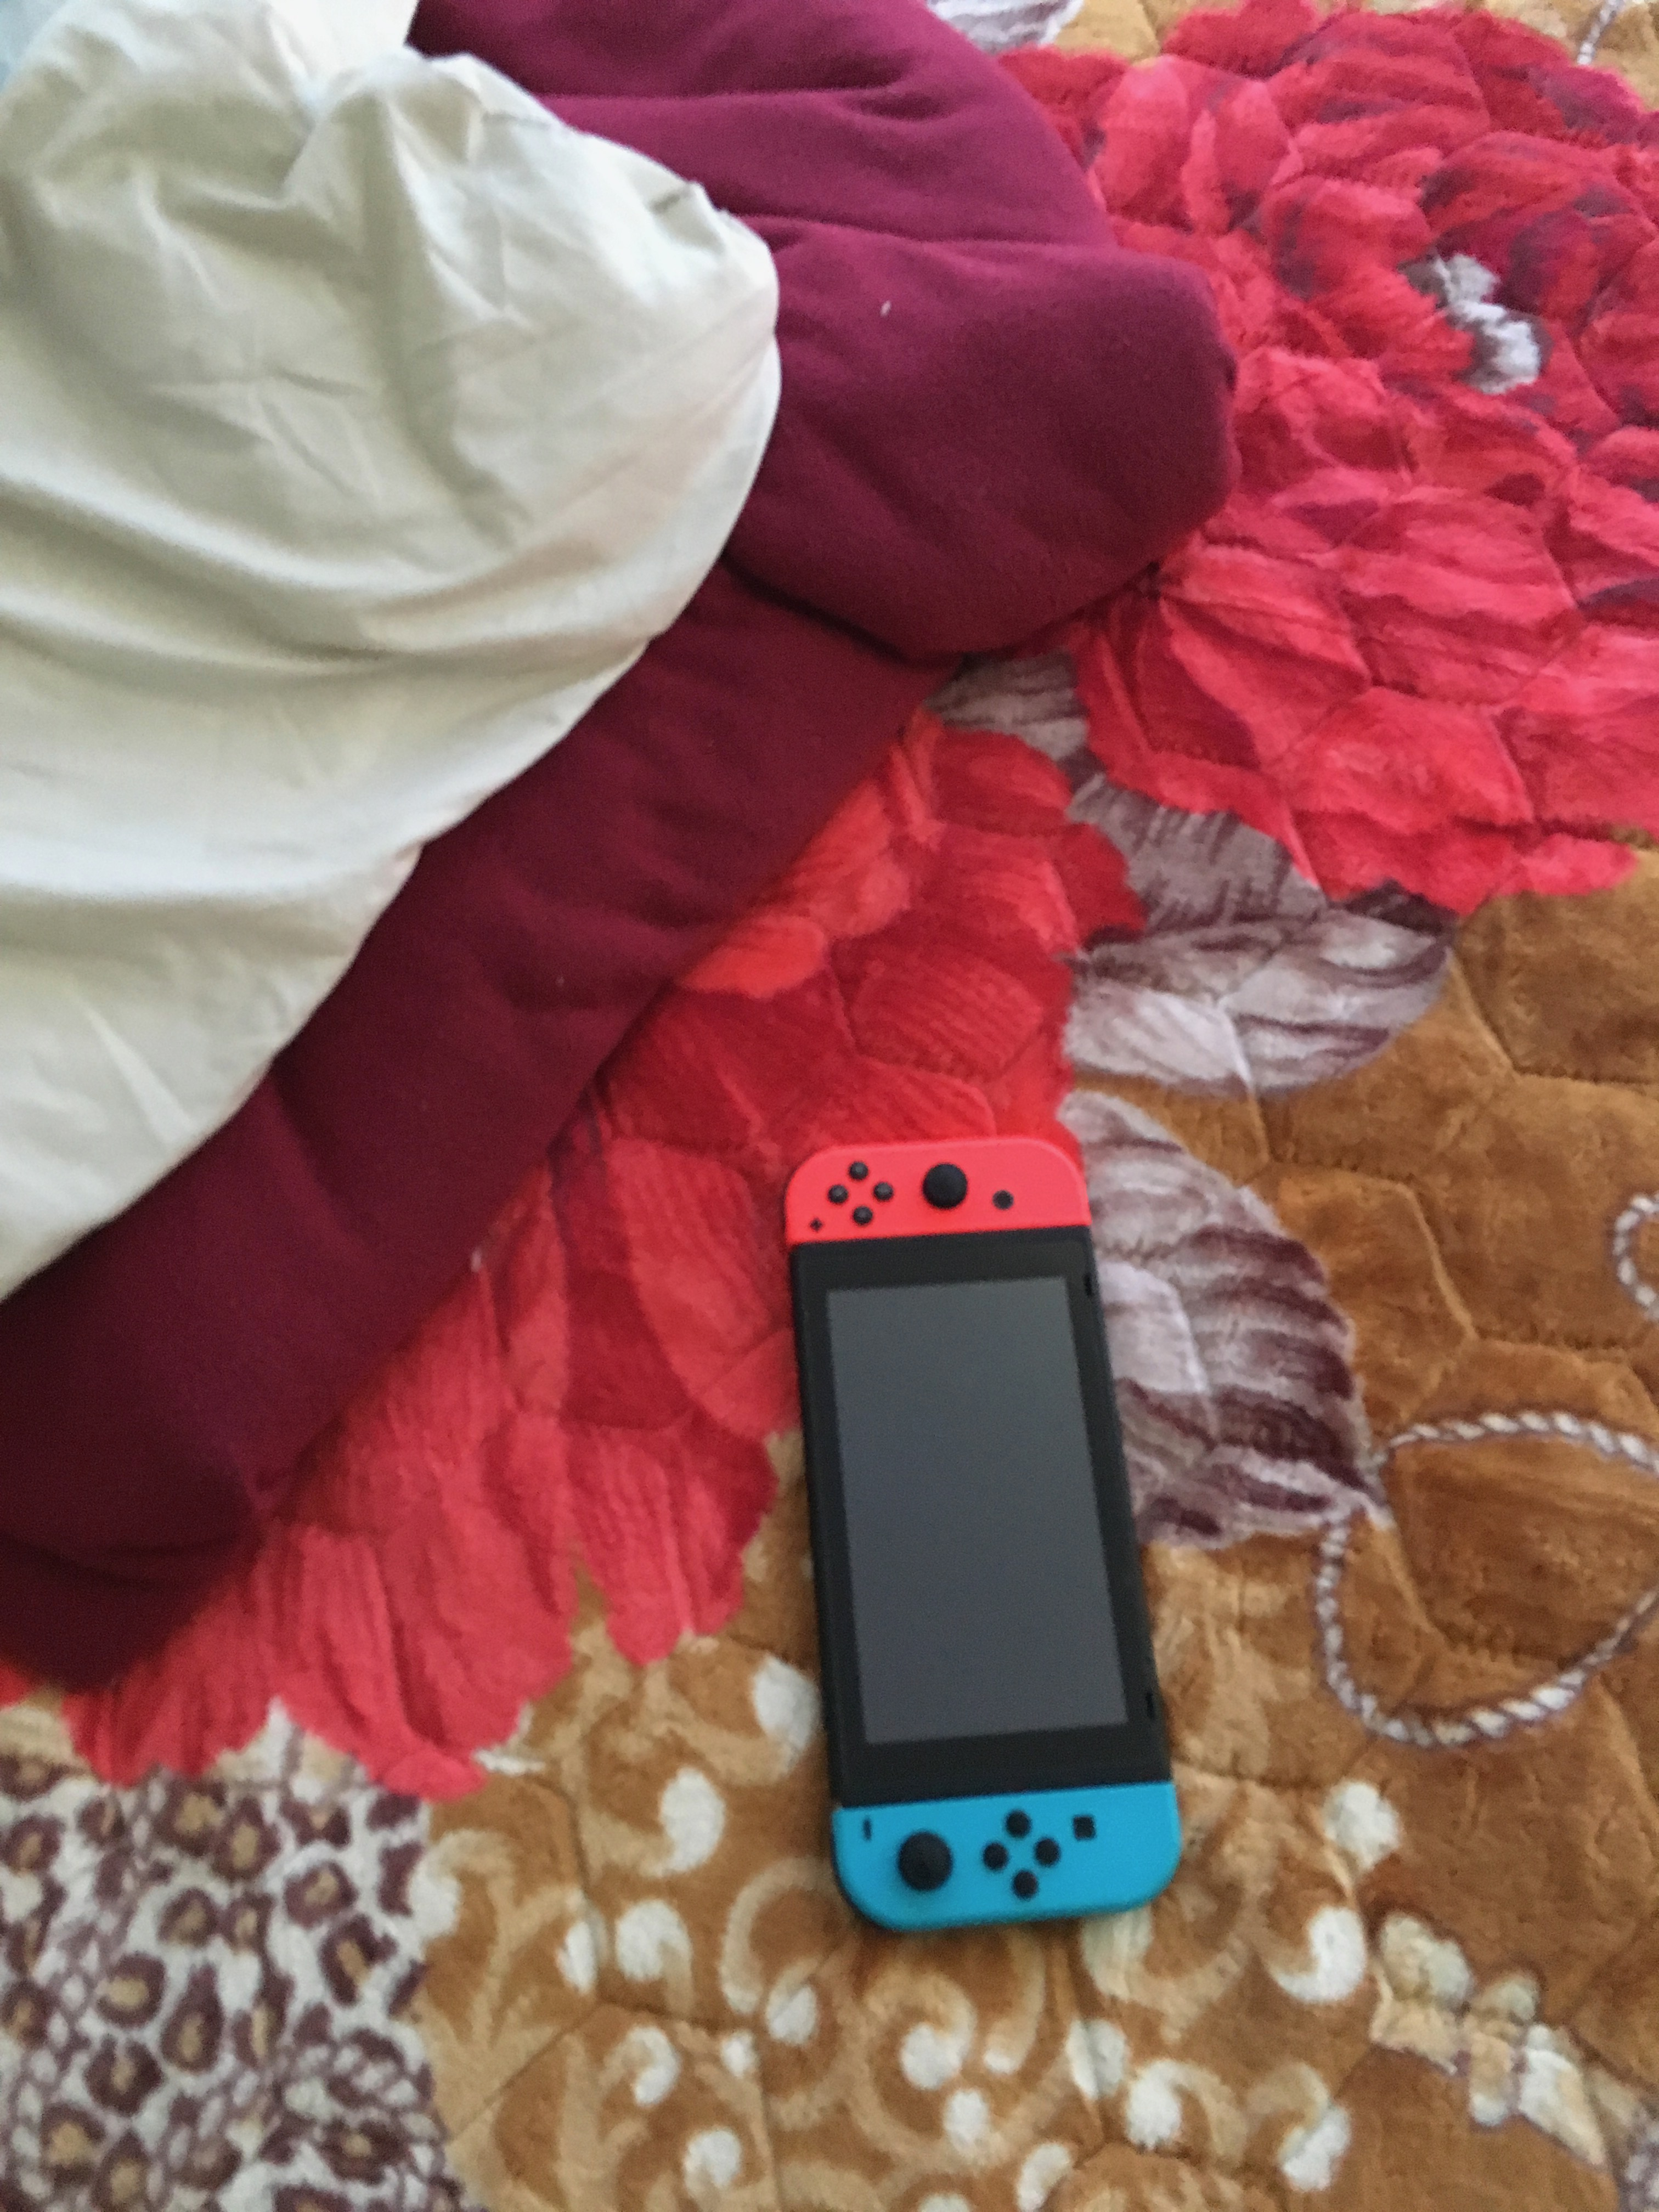NintendoSwitch: (784, 1132, 1201, 1947)
